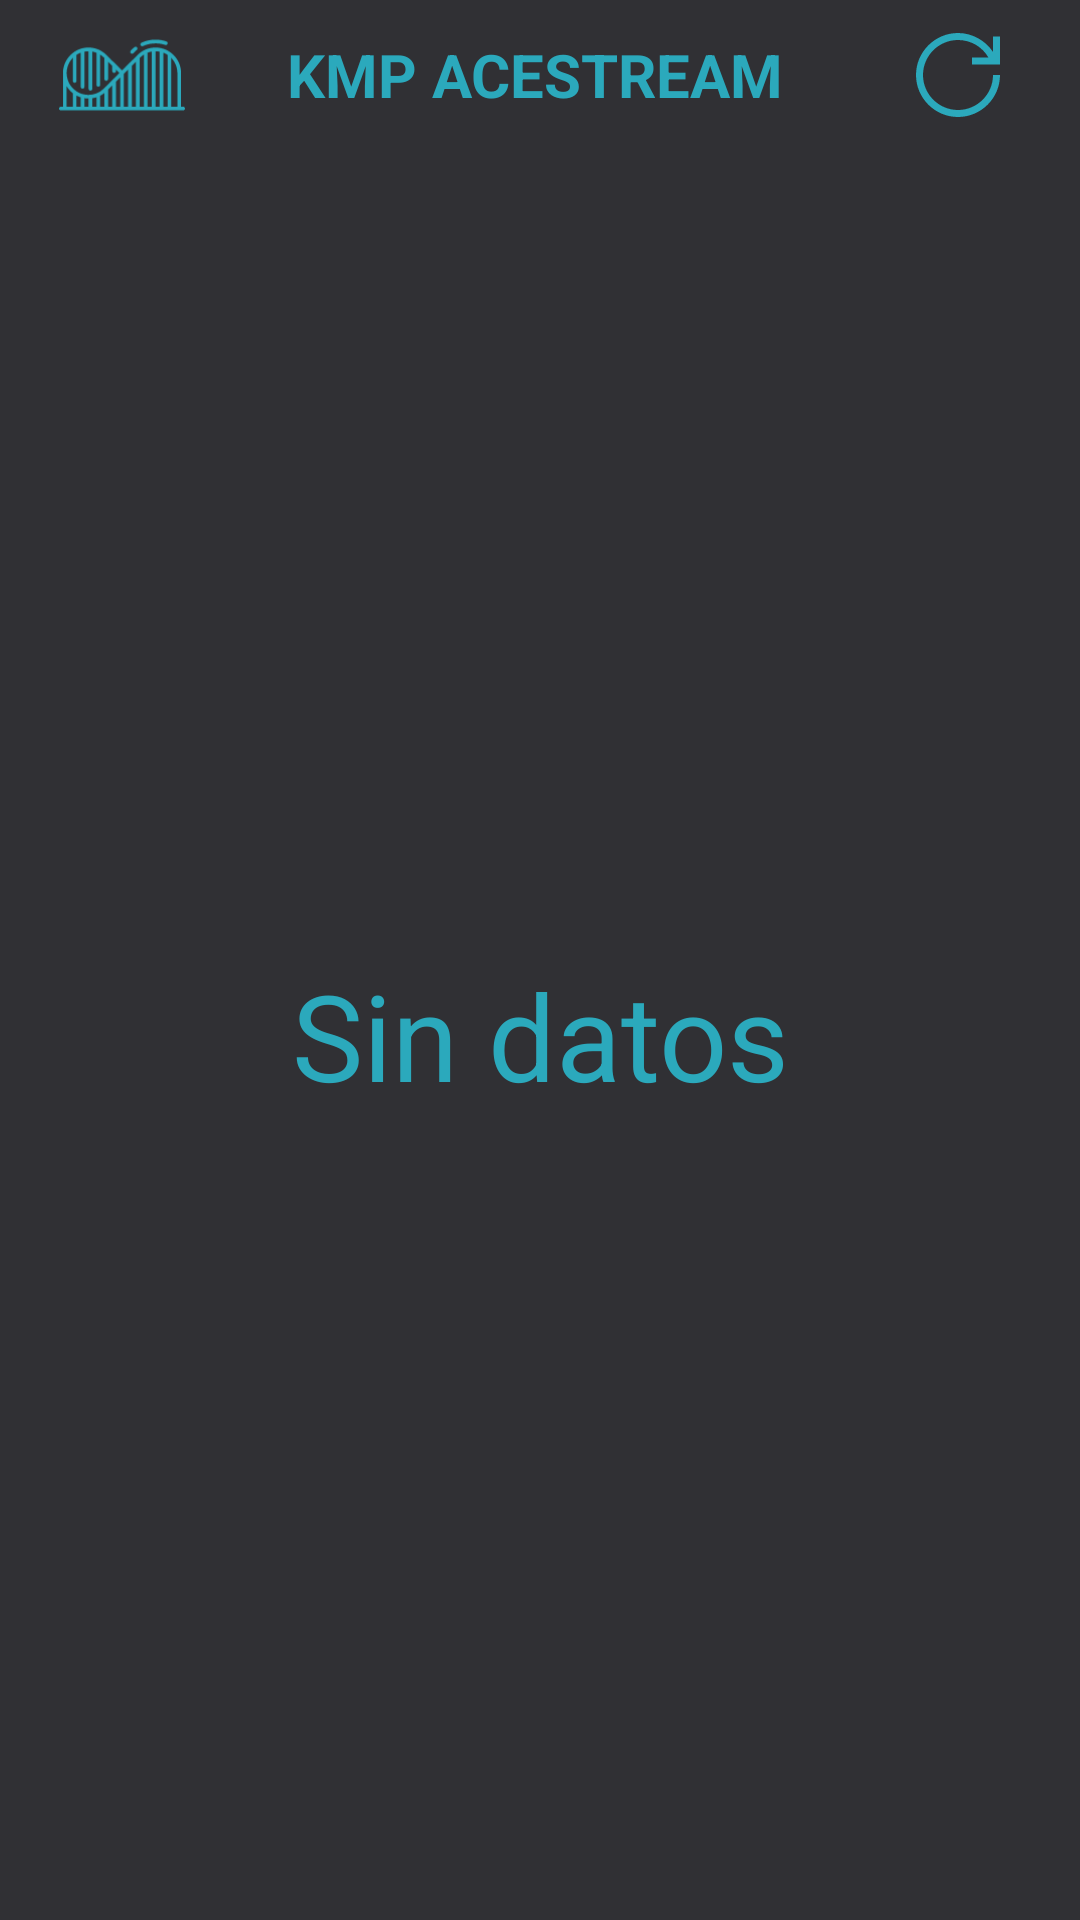

Icon bounding boxes for this 1080*1920 phone screenshot, format box(x1, y1, x2, y2):
refresh: box(916, 33, 1000, 117)
roller coster: box(59, 39, 185, 111)
